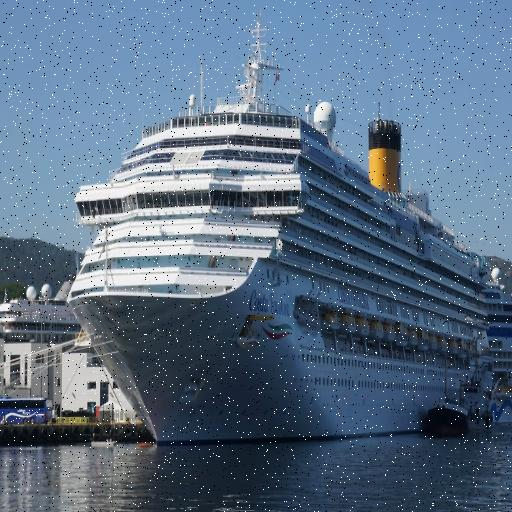cruises: (63, 16, 494, 455)
